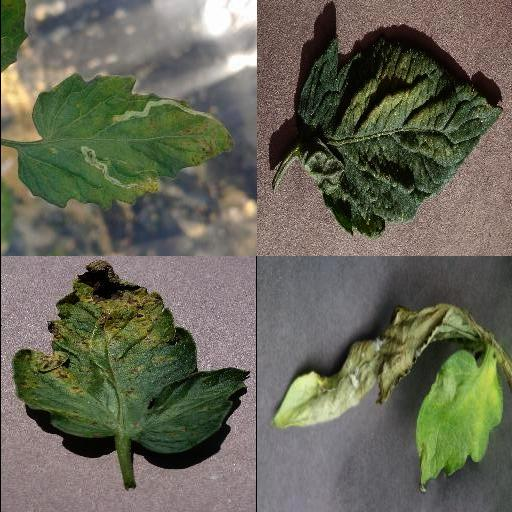Late Blight: (272, 302, 486, 430), (413, 349, 503, 497)
Leaf Miner: (15, 70, 233, 212)
Septoria: (11, 259, 249, 455)
Spider Mites: (295, 36, 503, 237)
